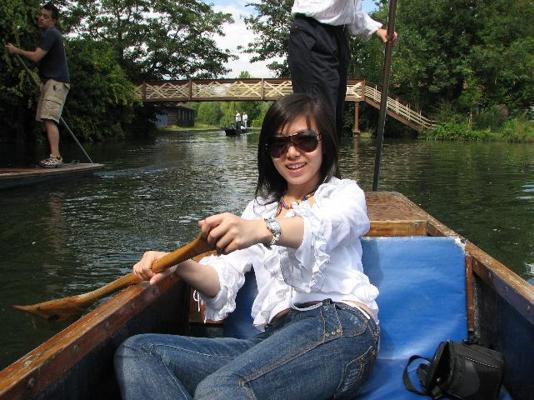person: (118, 94, 382, 400)
